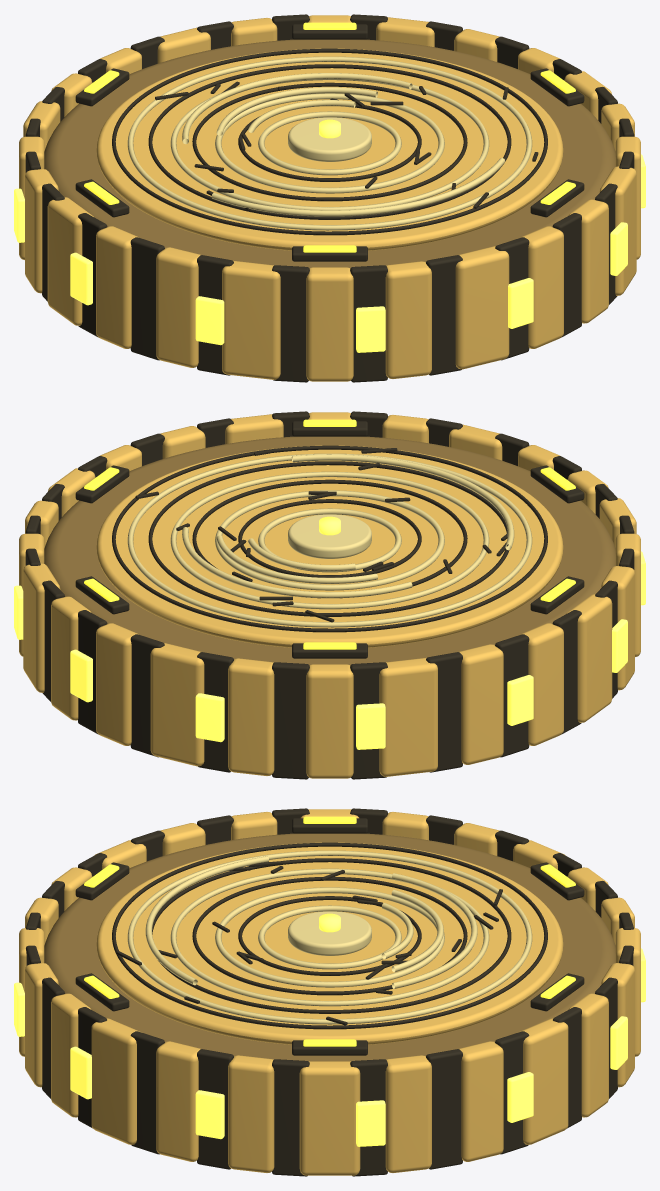
The model's file is Coin_BaseModel.glb.
3 views of the same model, one above another, from view 1: azimuth 30°, elevation 25°; view 2: azimuth 150°, elevation 25°; view 3: azimuth 270°, elevation 25° (orthographic).
Parts seen in each view (by area): view 1: Front_RaisedWarmGoldFace, CoinBody_ThickDarkGoldCore, OuterRim_SegmentedGoldArmorBlock_15, OuterRim_SegmentedGoldArmorBlock_18, Front_RaisedConcentricSonarRing_03, OuterRim_SegmentedGoldArmorBlock_16, OuterRim_SegmentedGoldArmorBlock_17, OuterRim_SegmentedGoldArmorBlock_14, Front_DarkInsetGroove_03, OuterRim_SegmentedGoldArmorBlock_13, OuterRim_SegmentedGoldArmorBlock_19, OuterRim_SegmentedGoldArmorBlock_12 (+53 smaller); view 2: Front_RaisedWarmGoldFace, CoinBody_ThickDarkGoldCore, OuterRim_SegmentedGoldArmorBlock_09, OuterRim_SegmentedGoldArmorBlock_06, OuterRim_SegmentedGoldArmorBlock_08, OuterRim_SegmentedGoldArmorBlock_07, Front_RaisedConcentricSonarRing_03, OuterRim_SegmentedGoldArmorBlock_10, Front_DarkInsetGroove_03, Front_RaisedConcentricSonarRing_02, OuterRim_SegmentedGoldArmorBlock_05, OuterRim_SegmentedGoldArmorBlock_12 (+52 smaller); view 3: Front_RaisedWarmGoldFace, CoinBody_ThickDarkGoldCore, OuterRim_SegmentedGoldArmorBlock_00, OuterRim_SegmentedGoldArmorBlock_01, OuterRim_SegmentedGoldArmorBlock_23, OuterRim_SegmentedGoldArmorBlock_21, Front_RaisedConcentricSonarRing_03, OuterRim_SegmentedGoldArmorBlock_02, OuterRim_SegmentedGoldArmorBlock_03, OuterRim_SegmentedGoldArmorBlock_22, Front_DarkInsetGroove_03, Front_RaisedConcentricSonarRing_02 (+54 smaller).
Part boxes in pixels (box(x1,y1,x2,y2)): Front_RaisedWarmGoldFace: box(96, 48, 563, 250); CoinBody_ThickDarkGoldCore: box(44, 39, 615, 267); OuterRim_SegmentedGoldArmorBlock_15: box(222, 260, 280, 379); OuterRim_SegmentedGoldArmorBlock_18: box(455, 246, 509, 369); Front_RaisedConcentricSonarRing_03: box(127, 56, 532, 230); OuterRim_SegmentedGoldArmorBlock_16: box(306, 267, 353, 381); OuterRim_SegmentedGoldArmorBlock_17: box(385, 261, 431, 378); OuterRim_SegmentedGoldArmorBlock_14: box(156, 247, 200, 367); Front_DarkInsetGroove_03: box(112, 48, 547, 235); OuterRim_SegmentedGoldArmorBlock_13: box(96, 226, 138, 348); OuterRim_SegmentedGoldArmorBlock_19: box(521, 226, 563, 348); OuterRim_SegmentedGoldArmorBlock_12: box(47, 197, 93, 325); Front_RaisedWarmGoldFace: box(96, 445, 563, 647); CoinBody_ThickDarkGoldCore: box(44, 436, 615, 664); OuterRim_SegmentedGoldArmorBlock_09: box(379, 657, 437, 776); OuterRim_SegmentedGoldArmorBlock_06: box(150, 643, 204, 766); OuterRim_SegmentedGoldArmorBlock_08: box(306, 664, 353, 778); OuterRim_SegmentedGoldArmorBlock_07: box(228, 658, 274, 775); Front_RaisedConcentricSonarRing_03: box(127, 453, 532, 627); OuterRim_SegmentedGoldArmorBlock_10: box(459, 644, 503, 764); Front_DarkInsetGroove_03: box(112, 445, 547, 632); Front_RaisedConcentricSonarRing_02: box(170, 471, 489, 609); OuterRim_SegmentedGoldArmorBlock_05: box(96, 623, 138, 745); OuterRim_SegmentedGoldArmorBlock_12: box(566, 594, 612, 722); Front_RaisedWarmGoldFace: box(96, 842, 563, 1044); CoinBody_ThickDarkGoldCore: box(44, 833, 615, 1061); OuterRim_SegmentedGoldArmorBlock_00: box(299, 1061, 360, 1175); OuterRim_SegmentedGoldArmorBlock_01: box(385, 1055, 431, 1172); OuterRim_SegmentedGoldArmorBlock_23: box(228, 1055, 274, 1172); OuterRim_SegmentedGoldArmorBlock_21: box(91, 1018, 141, 1144); Front_RaisedConcentricSonarRing_03: box(127, 850, 532, 1024); OuterRim_SegmentedGoldArmorBlock_02: box(459, 1041, 503, 1161); OuterRim_SegmentedGoldArmorBlock_03: box(518, 1018, 568, 1144); OuterRim_SegmentedGoldArmorBlock_22: box(156, 1041, 200, 1161); Front_DarkInsetGroove_03: box(112, 842, 547, 1029); Front_RaisedConcentricSonarRing_02: box(170, 868, 489, 1006).
Bounding box in the file's own units: 0.6907 × 0.179 × 0.6907.
